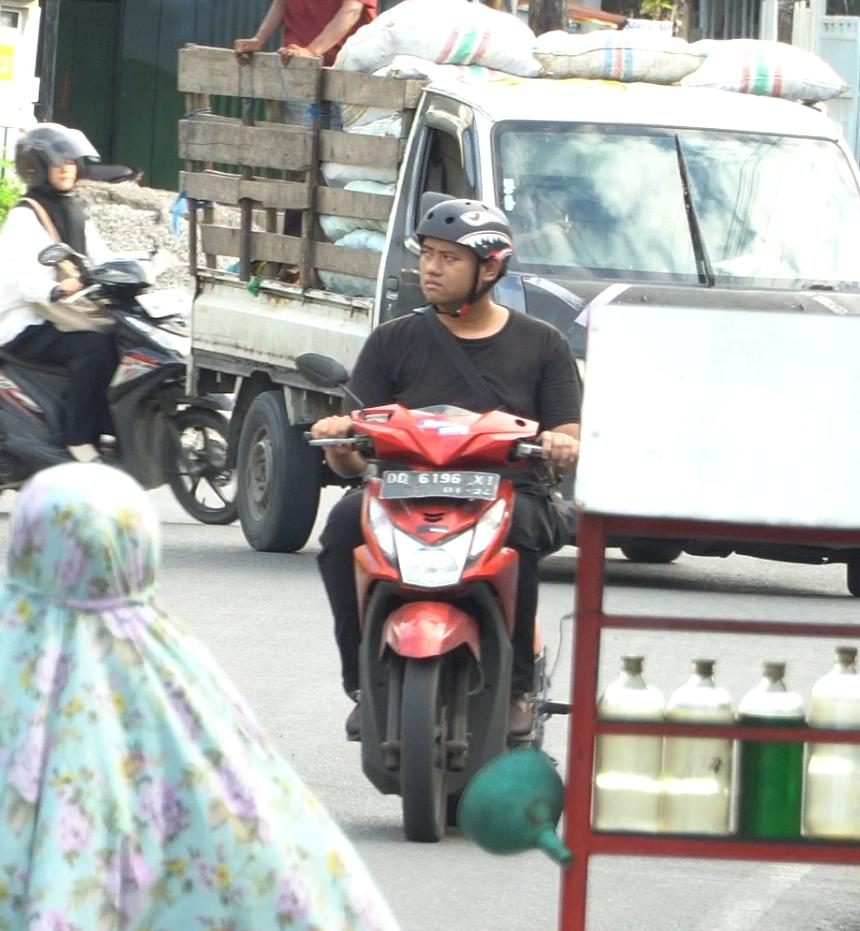number-plate: (380, 468, 503, 504)
